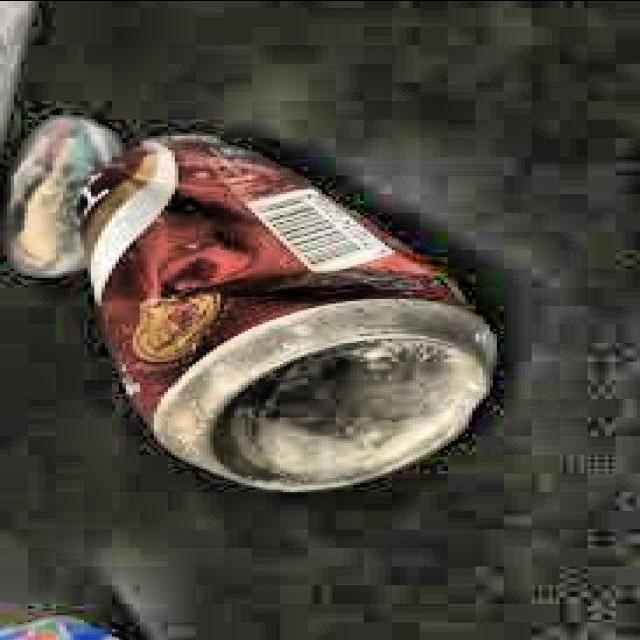litter: (56, 120, 506, 498)
